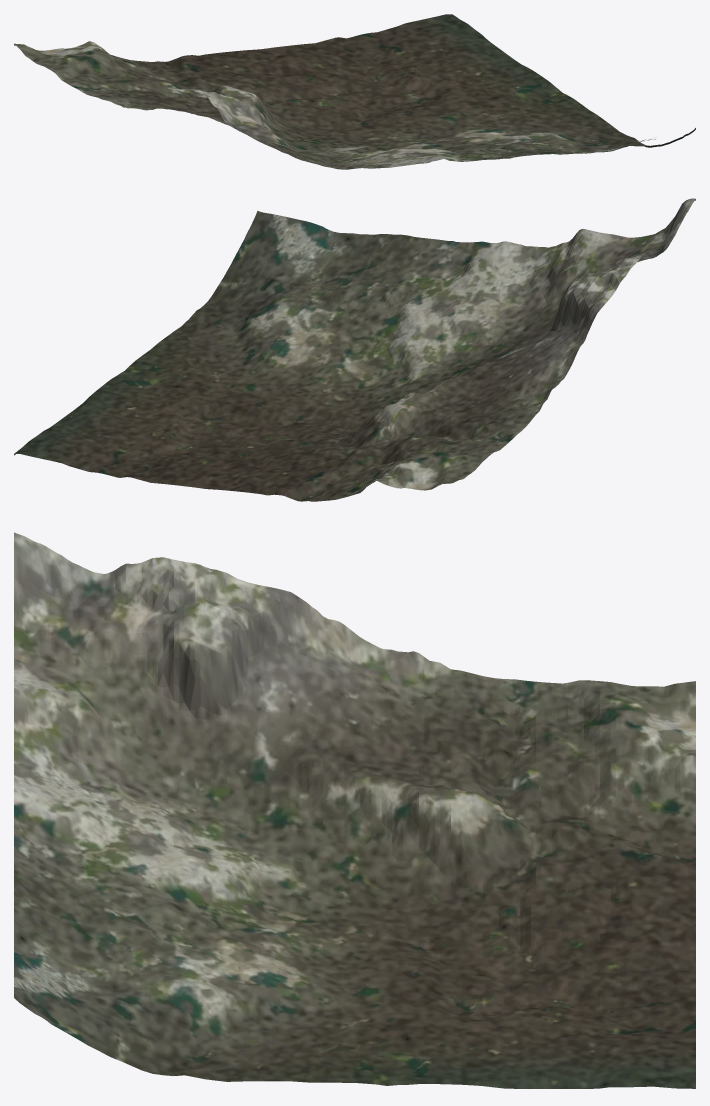
3 renders of one model, top to bottom at view 1: azimuth 30°, elevation 25°; view 2: azimuth 150°, elevation 25°; view 3: azimuth 270°, elevation 25°, orthographic. The views are drawn at different scales.
Bounding box in the file's own units: 250 × 101 × 241.
Materials: 1 (1 with a texture image).
